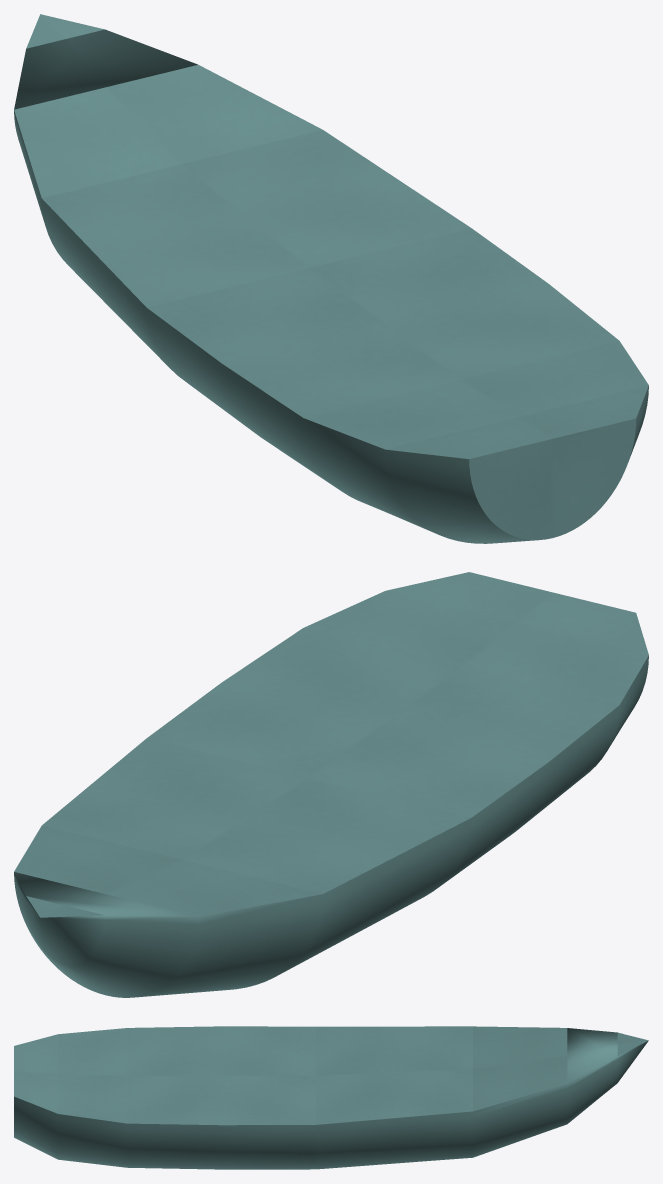
File: Workboat_Hull.glb
The picture shows the model from 3 angles, top to bottom: view 1: azimuth 30°, elevation 25°; view 2: azimuth 150°, elevation 25°; view 3: azimuth 270°, elevation 25°; orthographic projection. The views are drawn at different scales.
Parts seen in each view (by area): view 1: Workboat_Hull; view 2: Workboat_Hull; view 3: Workboat_Hull.
Part boxes in pixels (x1=…): Workboat_Hull: x1=14, y1=14, x2=648, y2=543; Workboat_Hull: x1=14, y1=572, x2=648, y2=997; Workboat_Hull: x1=14, y1=1026, x2=648, y2=1169.
Size of the model in its own units: 3.72 by 2.02 by 10.1.
Materials: 1 (1 with a texture image).
